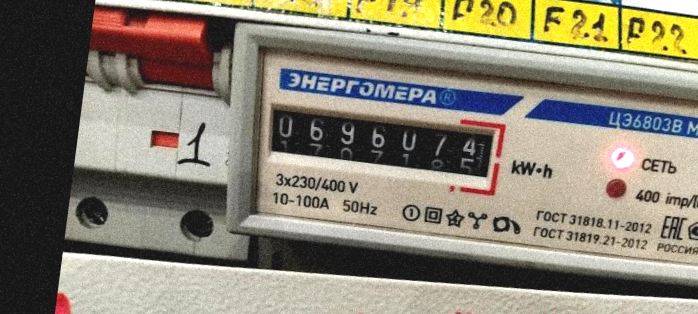0: (273, 111, 295, 138), (399, 124, 418, 152)
4: (460, 131, 479, 157)
5: (458, 155, 475, 175)
6: (306, 113, 328, 142), (367, 122, 387, 148)
7: (428, 129, 449, 157)
9: (335, 118, 357, 145)
screen: (251, 87, 511, 199)
